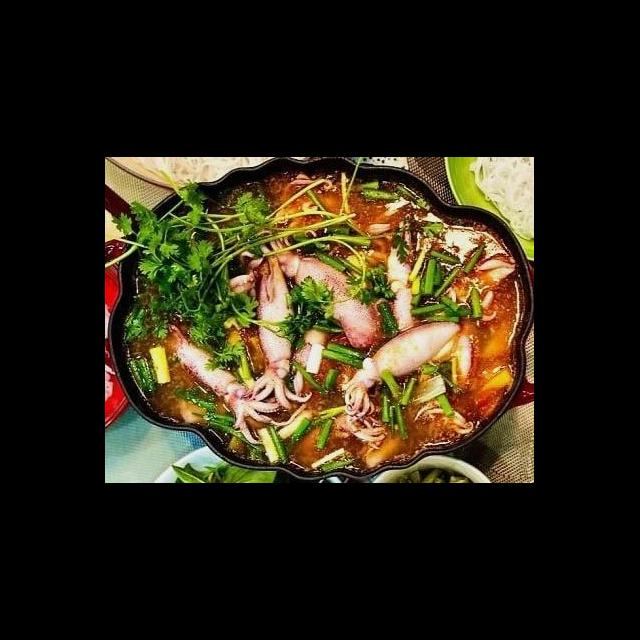muc: (238, 227, 392, 350), (160, 319, 292, 447), (236, 251, 318, 413), (338, 317, 464, 421), (380, 224, 430, 337)
